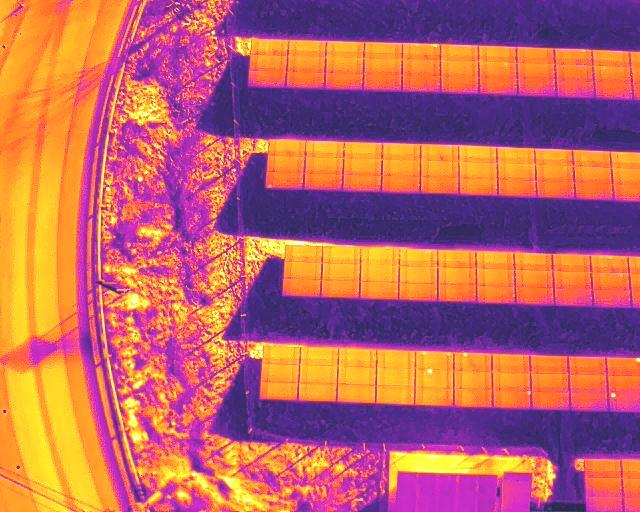Cell: (416, 368, 454, 387), (454, 353, 491, 372), (493, 390, 531, 408), (478, 60, 516, 76), (555, 49, 592, 65), (266, 173, 303, 188)
Cell-Multi: (415, 351, 453, 369), (402, 42, 441, 58)
No-Anomaly: (376, 385, 415, 404), (592, 289, 631, 308), (441, 74, 480, 93), (518, 77, 556, 96), (401, 74, 441, 92), (455, 371, 492, 390), (585, 458, 622, 477), (287, 39, 326, 57), (438, 284, 477, 302), (376, 368, 415, 386), (570, 392, 608, 410), (438, 250, 476, 268), (300, 365, 338, 383), (454, 389, 492, 407), (492, 354, 530, 372), (283, 279, 321, 297), (338, 367, 376, 385), (416, 388, 454, 406), (377, 350, 415, 368), (399, 283, 437, 301), (338, 349, 376, 367), (552, 254, 590, 272), (326, 40, 364, 58), (364, 41, 402, 59), (400, 249, 438, 267), (337, 384, 375, 402), (298, 383, 336, 401), (260, 382, 298, 400), (531, 373, 569, 391), (592, 272, 630, 290), (300, 347, 338, 365), (306, 140, 344, 158), (593, 65, 631, 83), (479, 76, 517, 94), (459, 145, 497, 163), (364, 72, 402, 90), (531, 355, 568, 373), (515, 252, 552, 270), (585, 478, 622, 496), (360, 264, 397, 282), (569, 356, 606, 374), (325, 71, 362, 89), (286, 245, 323, 263), (402, 58, 439, 76), (516, 46, 555, 63), (399, 266, 438, 283), (305, 157, 344, 174), (535, 148, 574, 165), (286, 71, 325, 88), (535, 164, 574, 181), (594, 82, 633, 99), (263, 346, 299, 364), (251, 38, 287, 56), (476, 268, 514, 285), (476, 252, 514, 269), (569, 375, 607, 392), (515, 287, 553, 304), (492, 373, 530, 390), (321, 280, 359, 297), (478, 45, 516, 62), (591, 255, 629, 272), (531, 391, 569, 408), (360, 281, 398, 298), (322, 263, 360, 280), (515, 270, 553, 287), (554, 289, 592, 306), (575, 183, 613, 200), (361, 248, 399, 265), (459, 161, 497, 178), (421, 177, 459, 194), (248, 70, 286, 87), (421, 160, 459, 177), (556, 79, 594, 96), (517, 62, 555, 79), (383, 160, 421, 177), (537, 180, 575, 197), (323, 246, 361, 263), (382, 176, 420, 193), (573, 150, 611, 167), (344, 142, 382, 159), (261, 364, 298, 381), (553, 271, 590, 288), (284, 262, 321, 279), (498, 147, 535, 164), (498, 163, 535, 180), (592, 50, 631, 66), (344, 158, 383, 174), (477, 286, 515, 302), (438, 268, 476, 284), (459, 178, 497, 194), (287, 56, 325, 72), (304, 174, 342, 190), (364, 58, 402, 74), (421, 144, 459, 160), (343, 175, 381, 191), (440, 59, 478, 75), (383, 143, 421, 159), (498, 180, 536, 196), (440, 44, 477, 60), (575, 166, 612, 182), (326, 56, 363, 72), (269, 140, 305, 156), (268, 156, 304, 172), (585, 497, 623, 512), (250, 56, 287, 71), (556, 65, 593, 80)
